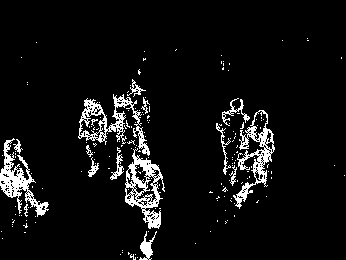person: (126, 143, 167, 257), (2, 134, 49, 228), (235, 110, 276, 210), (218, 97, 252, 193), (112, 93, 143, 182), (77, 99, 108, 178), (126, 77, 150, 143)
